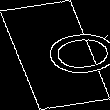O_W: (7, 28, 103, 82)
